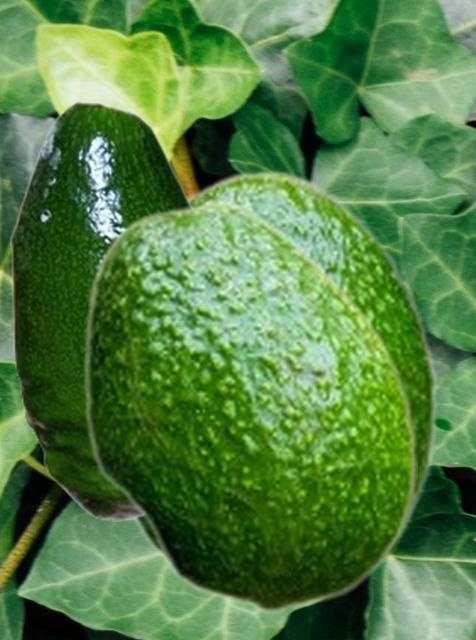avocado: (81, 197, 416, 612), (127, 169, 438, 599), (10, 100, 194, 520)
